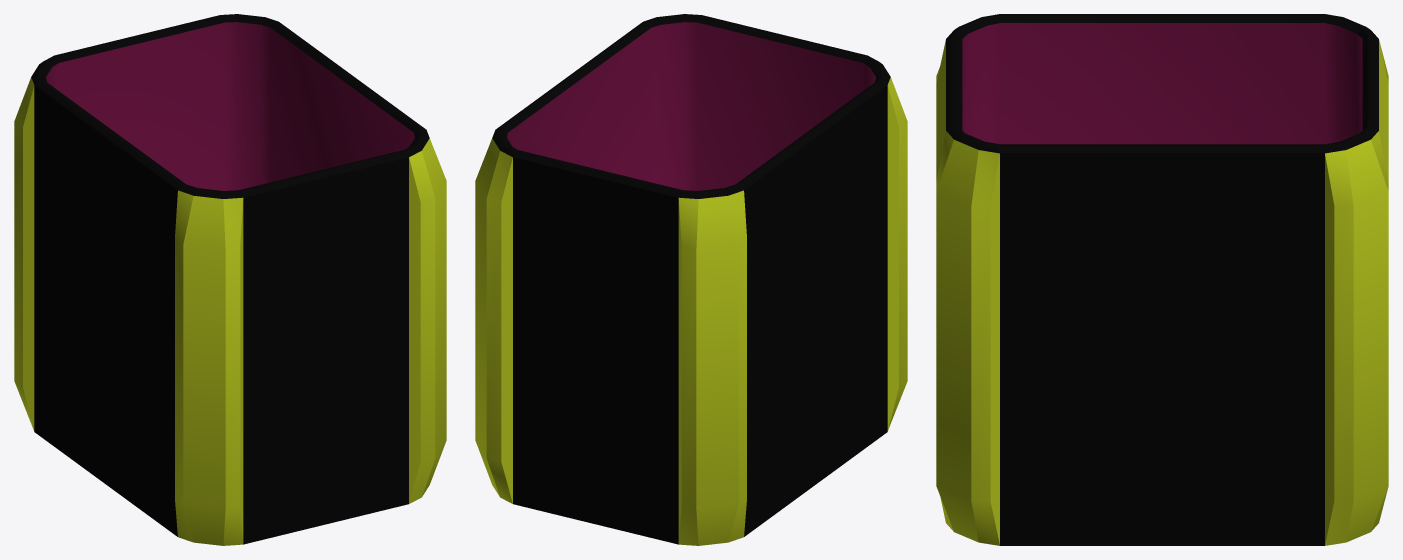
The model's file is Papelera.fbx.
The picture shows the model from 3 angles, left to right: view 1: azimuth 30°, elevation 25°; view 2: azimuth 150°, elevation 25°; view 3: azimuth 270°, elevation 25°; orthographic projection. The views are drawn at different scales.
Visible parts, largest first — view 1: Box028; view 2: Box028; view 3: Box028.
Boxes of the visible parts, x1,y1,x2,y2 form: Box028: (14, 14, 446, 545); Box028: (475, 14, 907, 545); Box028: (936, 14, 1388, 545).
Bounding box in the file's own units: 0.6354 × 0.8091 × 0.8354.
